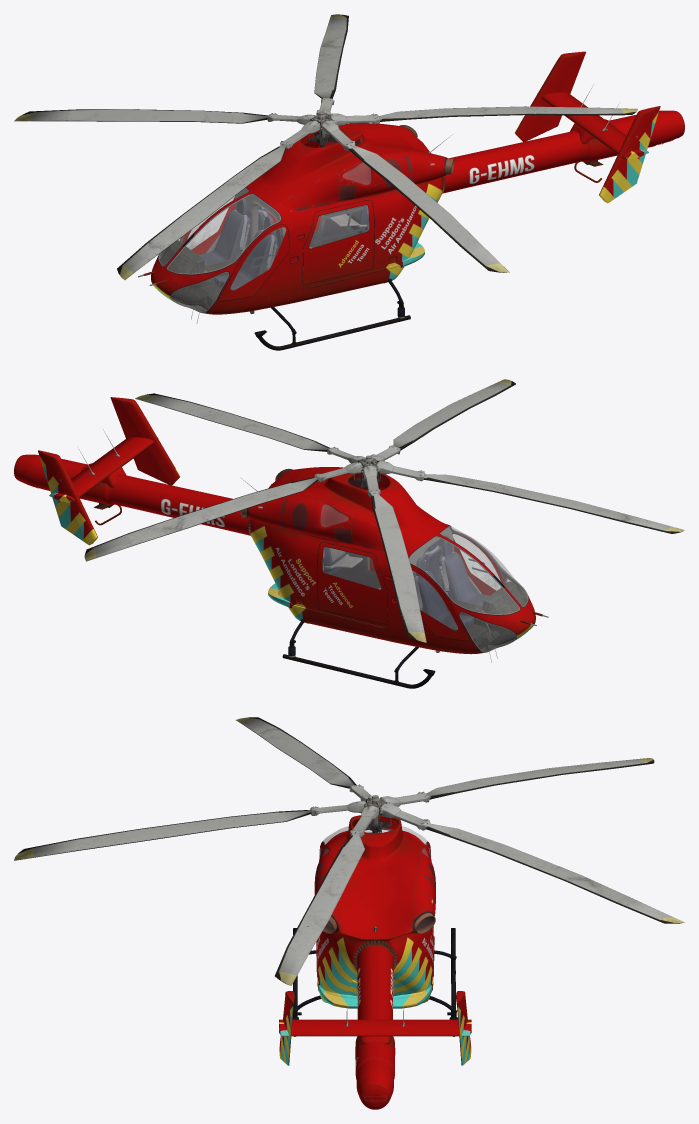
The model's file is h-ambulance.glb.
The picture shows the model from 3 angles, top to bottom: view 1: azimuth 30°, elevation 25°; view 2: azimuth 150°, elevation 25°; view 3: azimuth 270°, elevation 25°; orthographic projection. The views are drawn at different scales.
Parts seen in each view (by area): view 1: exterior_2, wings_6, doors_1, flights_3, front_seat_7, interior_4, front_0, parts_5, back_seat_8; view 2: exterior_2, wings_6, doors_1, flights_3, front_seat_7, interior_4, front_0, parts_5, back_seat_8; view 3: exterior_2, wings_6, flights_3, parts_5.
Boxes of the visible parts, x1,y1,x2,y2 form: exterior_2: (151, 110, 684, 314); wings_6: (14, 14, 637, 279); doors_1: (158, 188, 374, 312); flights_3: (308, 51, 660, 203); front_seat_7: (198, 198, 277, 290); interior_4: (158, 188, 374, 312); front_0: (159, 240, 244, 309); parts_5: (138, 234, 424, 350); back_seat_8: (258, 205, 369, 250); exterior_2: (14, 454, 535, 654); wings_6: (84, 379, 684, 642); doors_1: (317, 525, 528, 652); flights_3: (38, 397, 381, 545); front_seat_7: (414, 538, 489, 630); interior_4: (317, 526, 528, 652); front_0: (445, 581, 527, 649); parts_5: (268, 576, 548, 688); back_seat_8: (322, 542, 441, 589); exterior_2: (314, 815, 435, 1109); wings_6: (14, 717, 684, 985); flights_3: (279, 795, 471, 1065); parts_5: (292, 928, 457, 1036).
Bounding box in the file's own units: 13.94 × 4.13 × 11.82.
9 materials, 9 textured.
